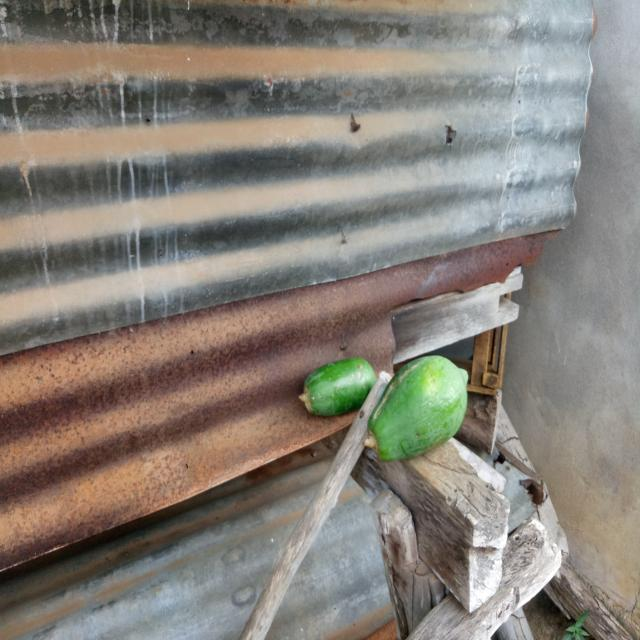Pepaya unrippen: (368, 358, 474, 453), (292, 351, 377, 410)
